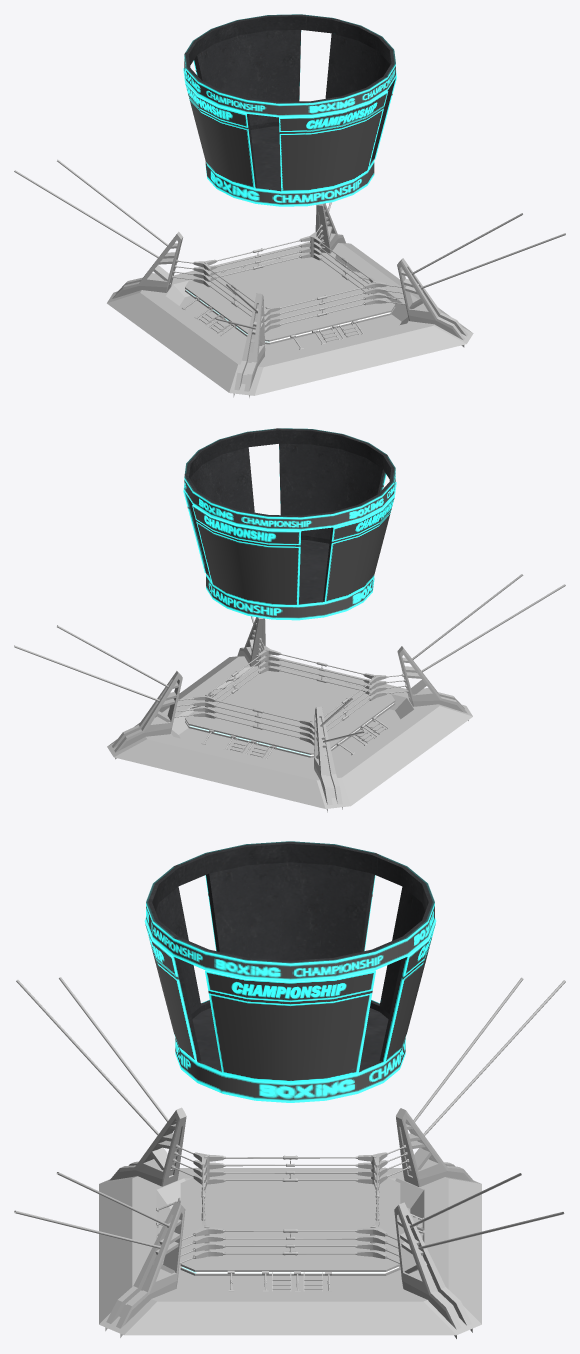
Rendered from sandau.fbx.
3 views of the same model, one above another, from view 1: azimuth 30°, elevation 25°; view 2: azimuth 150°, elevation 25°; view 3: azimuth 270°, elevation 25° (orthographic). The views are drawn at different scales.
Parts seen in each view (by area): view 1: pCylinder471, Plane, Plane.018, Plane.005, pCylinder497, pCube404.003, Plane.006, Plane.007, Cylinder.020, Plane.004, Cylinder.017, Plane.003 (+2 smaller); view 2: pCylinder471, Plane, Plane.018, Plane.004, pCylinder497, pCube404.003, Plane.007, Plane.006, Cylinder.020, Plane.005, Cylinder.017, Plane.002 (+2 smaller); view 3: pCylinder471, Plane, Plane.018, Plane.005, Plane.004, Plane.007, Plane.006, Cylinder.020, pCylinder497, pCube404.003, Cylinder.017, Plane.002 (+3 smaller).
Boxes of the visible parts, box(x1,y1,x2,y2) form: pCylinder471: box(183, 14, 396, 206); Plane: box(107, 243, 473, 395); Plane.018: box(185, 252, 395, 344); Plane.005: box(397, 258, 467, 347); pCylinder497: box(250, 126, 281, 189); pCube404.003: box(210, 240, 368, 324); Plane.006: box(233, 293, 265, 397); Plane.007: box(112, 231, 183, 298); Cylinder.020: box(14, 170, 565, 329); Plane.004: box(315, 203, 345, 253); Cylinder.017: box(57, 160, 522, 312); Plane.003: box(171, 259, 217, 287); pCylinder471: box(183, 428, 396, 620); Plane: box(107, 656, 472, 808); Plane.018: box(185, 666, 395, 757); Plane.004: box(112, 671, 182, 759); pCylinder497: box(299, 540, 329, 603); pCube404.003: box(211, 654, 369, 737); Plane.007: box(314, 706, 342, 812); Plane.006: box(397, 646, 468, 720); Cylinder.020: box(14, 584, 565, 742); Plane.005: box(237, 617, 265, 666); Cylinder.017: box(56, 574, 523, 725); Plane.002: box(363, 673, 408, 700); pCylinder471: box(144, 841, 436, 1102); Plane: box(99, 1168, 481, 1335); Plane.018: box(180, 1177, 400, 1275); Plane.005: box(105, 1201, 185, 1337); Plane.004: box(394, 1202, 472, 1338); Plane.007: box(396, 1108, 474, 1186); Plane.006: box(109, 1107, 186, 1186); Cylinder.020: box(14, 979, 565, 1249); pCylinder497: box(192, 1008, 388, 1068); pCube404.003: box(202, 1157, 378, 1254); Cylinder.017: box(56, 977, 523, 1227); Plane.002: box(171, 1144, 225, 1190).
Size of the model in its own units: 2168 by 1559 by 2167.
